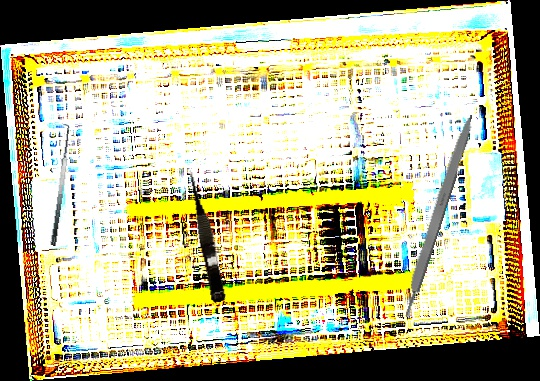Micro Scissor: (184, 167, 229, 304)
Scalpel Handle: (397, 112, 477, 318)
Spatula Surgical: (40, 122, 76, 247)
